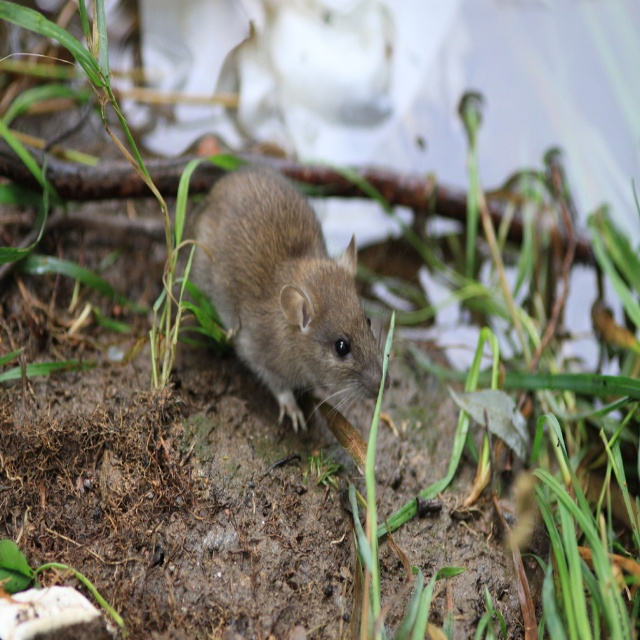Hamster: (181, 168, 445, 438)
